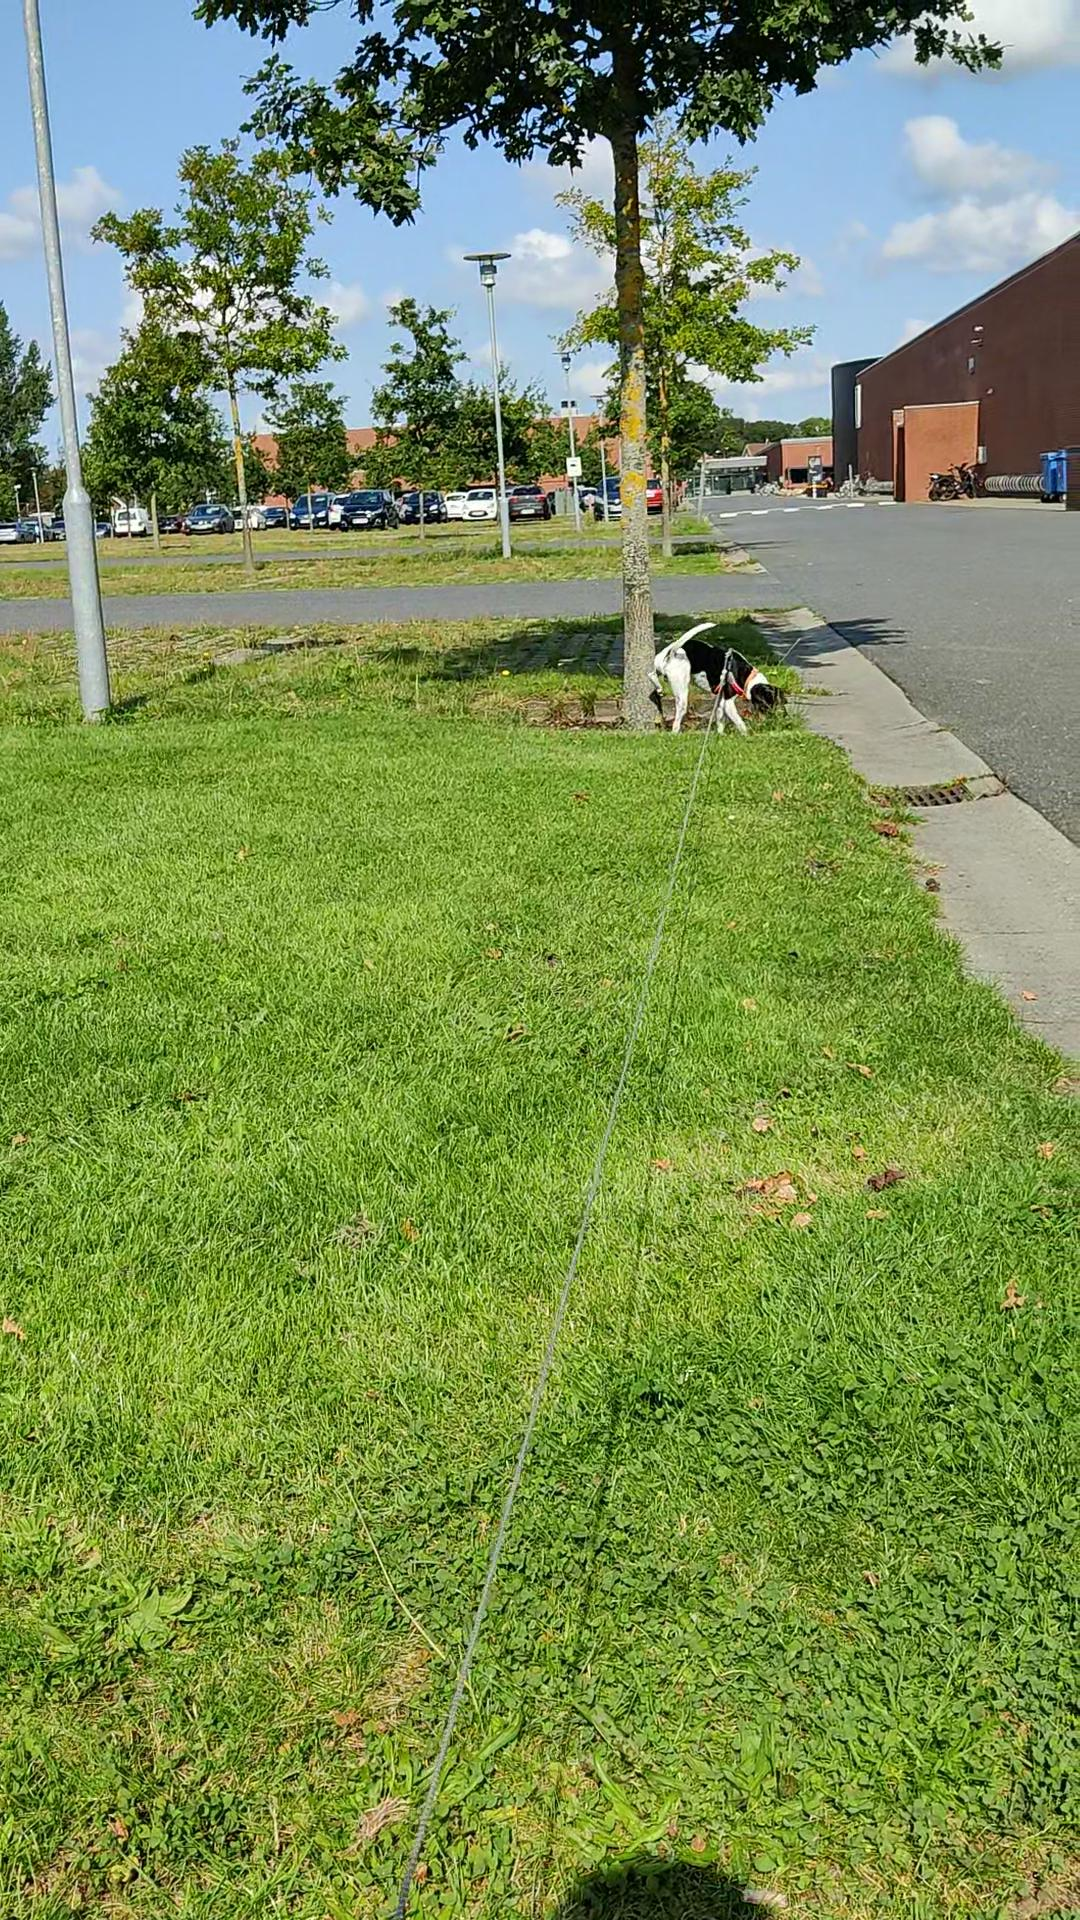Dog: (646, 620, 793, 738)
